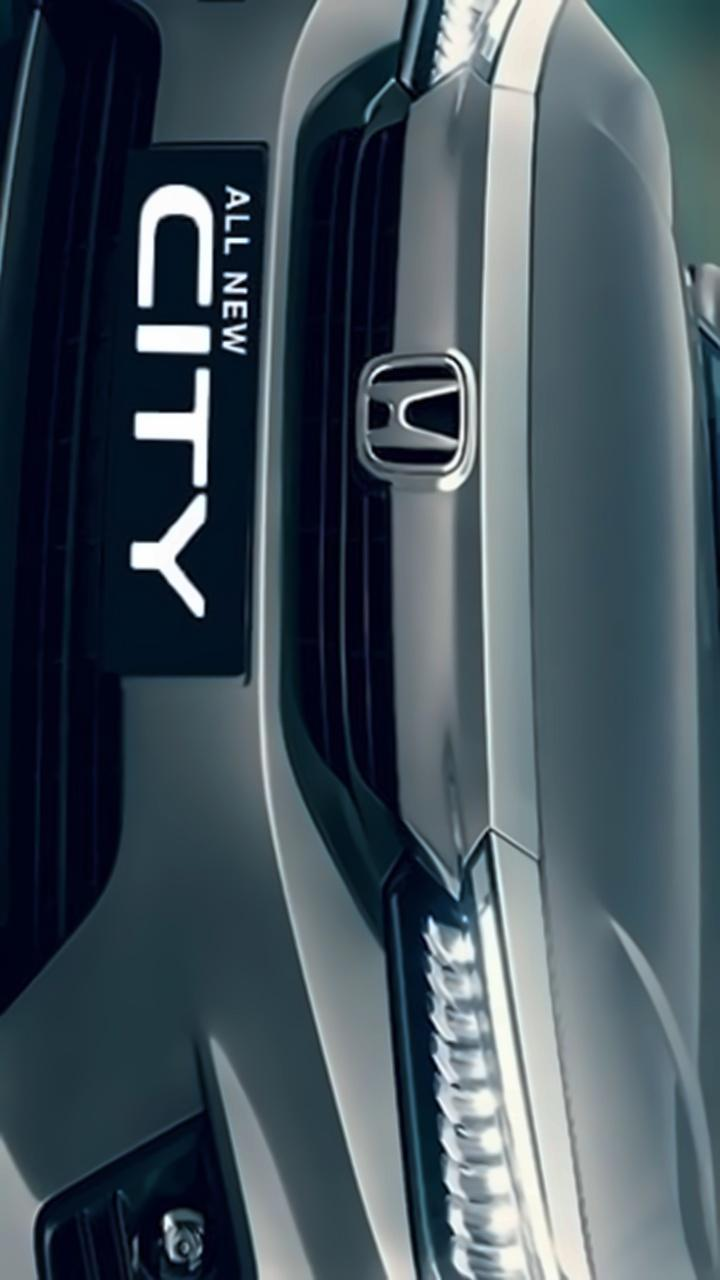Car hood: (514, 0, 720, 1280)
Front bumper: (0, 0, 404, 1280)
Headlight - -L-: (382, 846, 600, 1280)
